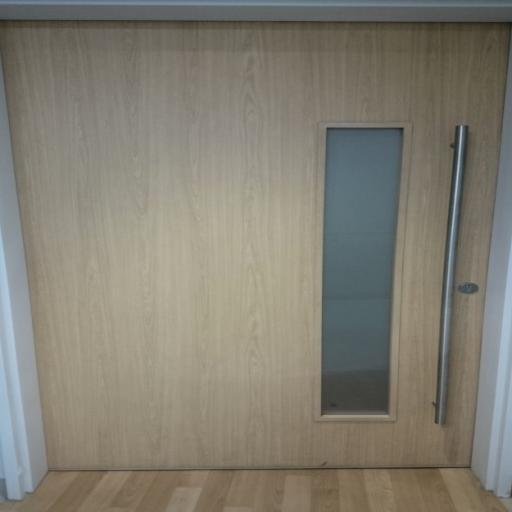Door: (0, 20, 512, 469)
